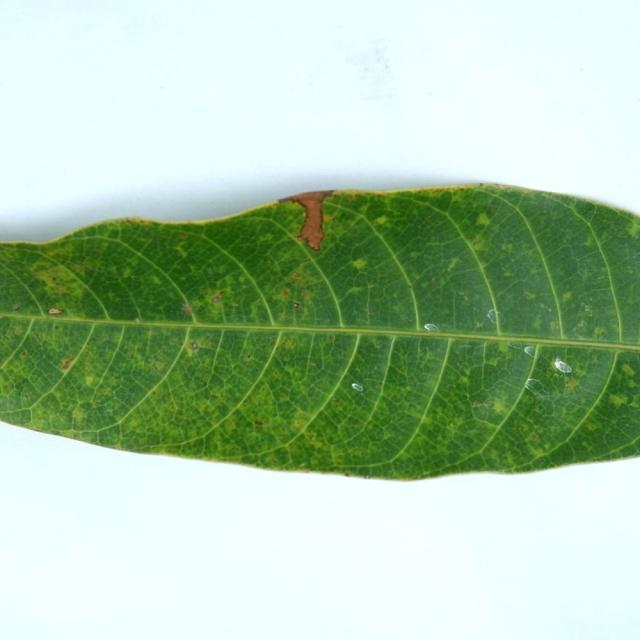Mango: (0, 185, 639, 477)
Powdery_Mildew: (279, 285, 313, 318), (180, 330, 218, 354), (11, 378, 35, 406), (146, 349, 170, 372), (71, 404, 90, 428), (491, 399, 511, 415), (351, 257, 372, 272), (172, 242, 191, 258), (210, 290, 228, 306), (609, 393, 628, 407), (625, 218, 640, 235), (343, 285, 366, 296), (579, 301, 595, 316), (564, 377, 580, 392), (83, 373, 98, 388), (620, 363, 636, 377), (446, 256, 460, 272), (443, 422, 459, 436), (475, 212, 490, 226), (120, 266, 135, 280), (351, 257, 367, 270), (583, 419, 599, 431), (186, 340, 198, 356), (372, 215, 388, 226), (501, 242, 514, 255), (299, 288, 312, 301), (61, 357, 74, 370), (308, 438, 323, 449), (583, 235, 596, 247), (290, 270, 303, 282), (181, 303, 194, 315), (457, 291, 470, 303), (497, 342, 511, 353), (593, 326, 607, 337), (47, 307, 65, 315), (523, 290, 537, 300), (562, 291, 573, 303), (458, 375, 470, 386), (13, 324, 25, 335), (293, 420, 306, 430), (626, 396, 637, 407), (408, 250, 421, 259), (540, 304, 552, 313), (125, 217, 140, 224), (28, 269, 42, 276), (550, 321, 560, 330), (20, 350, 29, 359), (282, 288, 290, 298), (529, 432, 539, 440), (324, 214, 335, 221), (476, 321, 485, 329), (211, 296, 221, 303), (364, 309, 374, 316), (93, 399, 101, 406), (12, 304, 20, 311), (254, 420, 263, 425), (282, 339, 288, 346), (628, 267, 634, 274), (309, 362, 316, 367), (458, 186, 465, 191), (246, 354, 252, 359), (328, 335, 334, 340), (242, 402, 247, 407), (219, 291, 224, 296), (52, 276, 57, 281), (233, 303, 239, 307)
